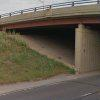Bridge: (2, 2, 91, 38)
